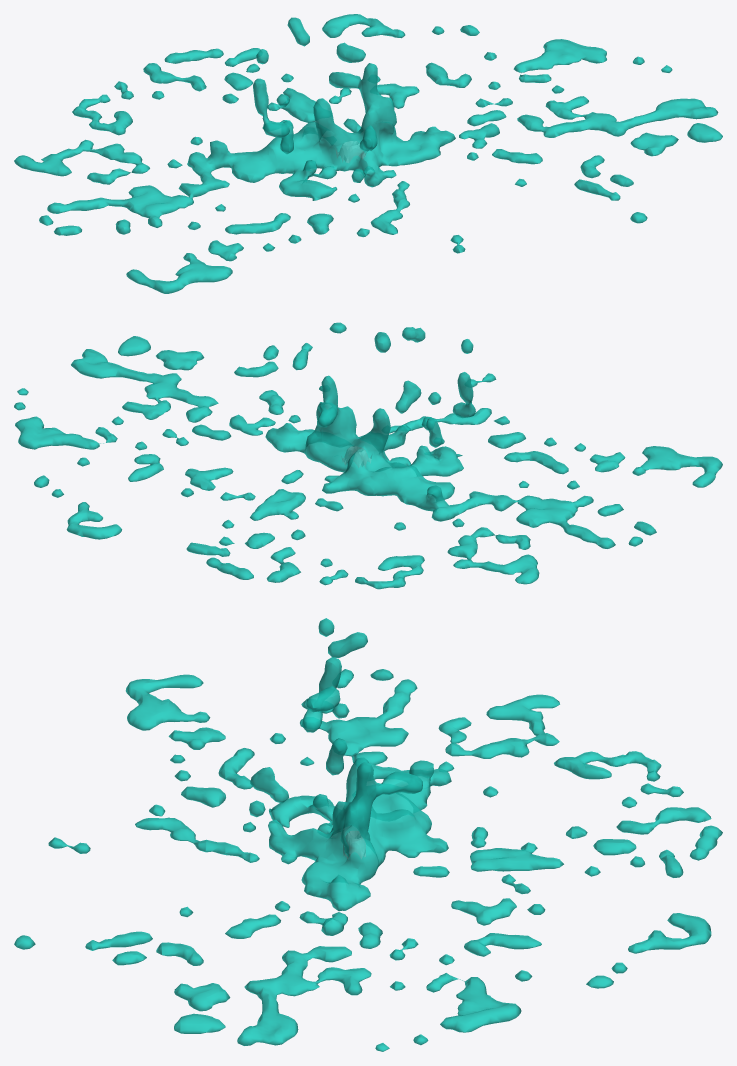
3 views of the same model, one above another, from view 1: azimuth 30°, elevation 25°; view 2: azimuth 150°, elevation 25°; view 3: azimuth 270°, elevation 25° (orthographic). The views are drawn at different scales.
Visible parts, largest first — view 1: Liquid_Domain; view 2: Liquid_Domain; view 3: Liquid_Domain.
Boxes of the visible parts, x1,y1,x2,y2 form: Liquid_Domain: (14, 14, 722, 293); Liquid_Domain: (14, 322, 722, 589); Liquid_Domain: (14, 618, 722, 1051).
Size of the model in its own units: 11.74 by 2.78 by 9.28.
